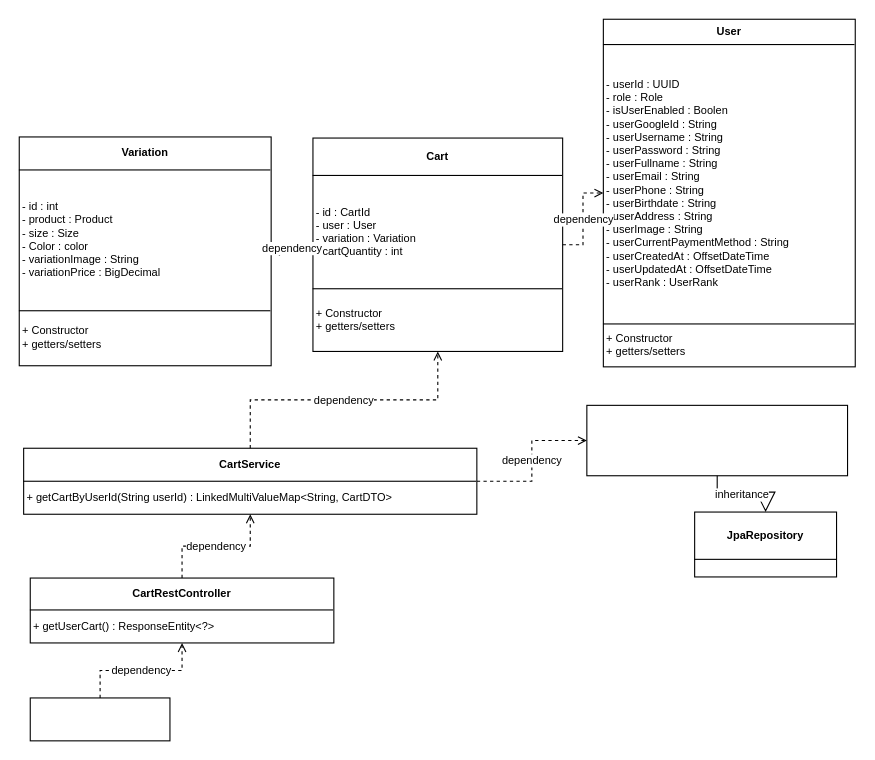
This 875x760 diagram has some shape labels left out. The centre of each missing label's shape, as x and y in pixels:
"Cart View" goes at [99,719].
"CartRepository + findAllById_UserId(UUID idUserId) : List<Cart>" goes at [717,440].
